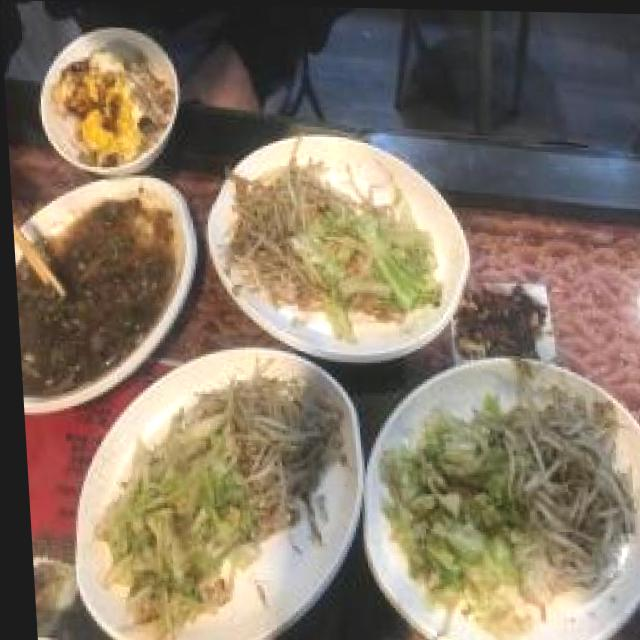chinese_cabbage: (92, 414, 237, 617), (376, 401, 509, 613), (299, 200, 434, 312)
fried_eggs: (47, 36, 172, 163)
mung_bean_sprouts: (500, 373, 640, 609), (220, 157, 310, 313), (218, 381, 333, 496)
